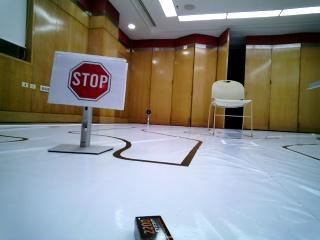stop: (52, 47, 127, 115)
